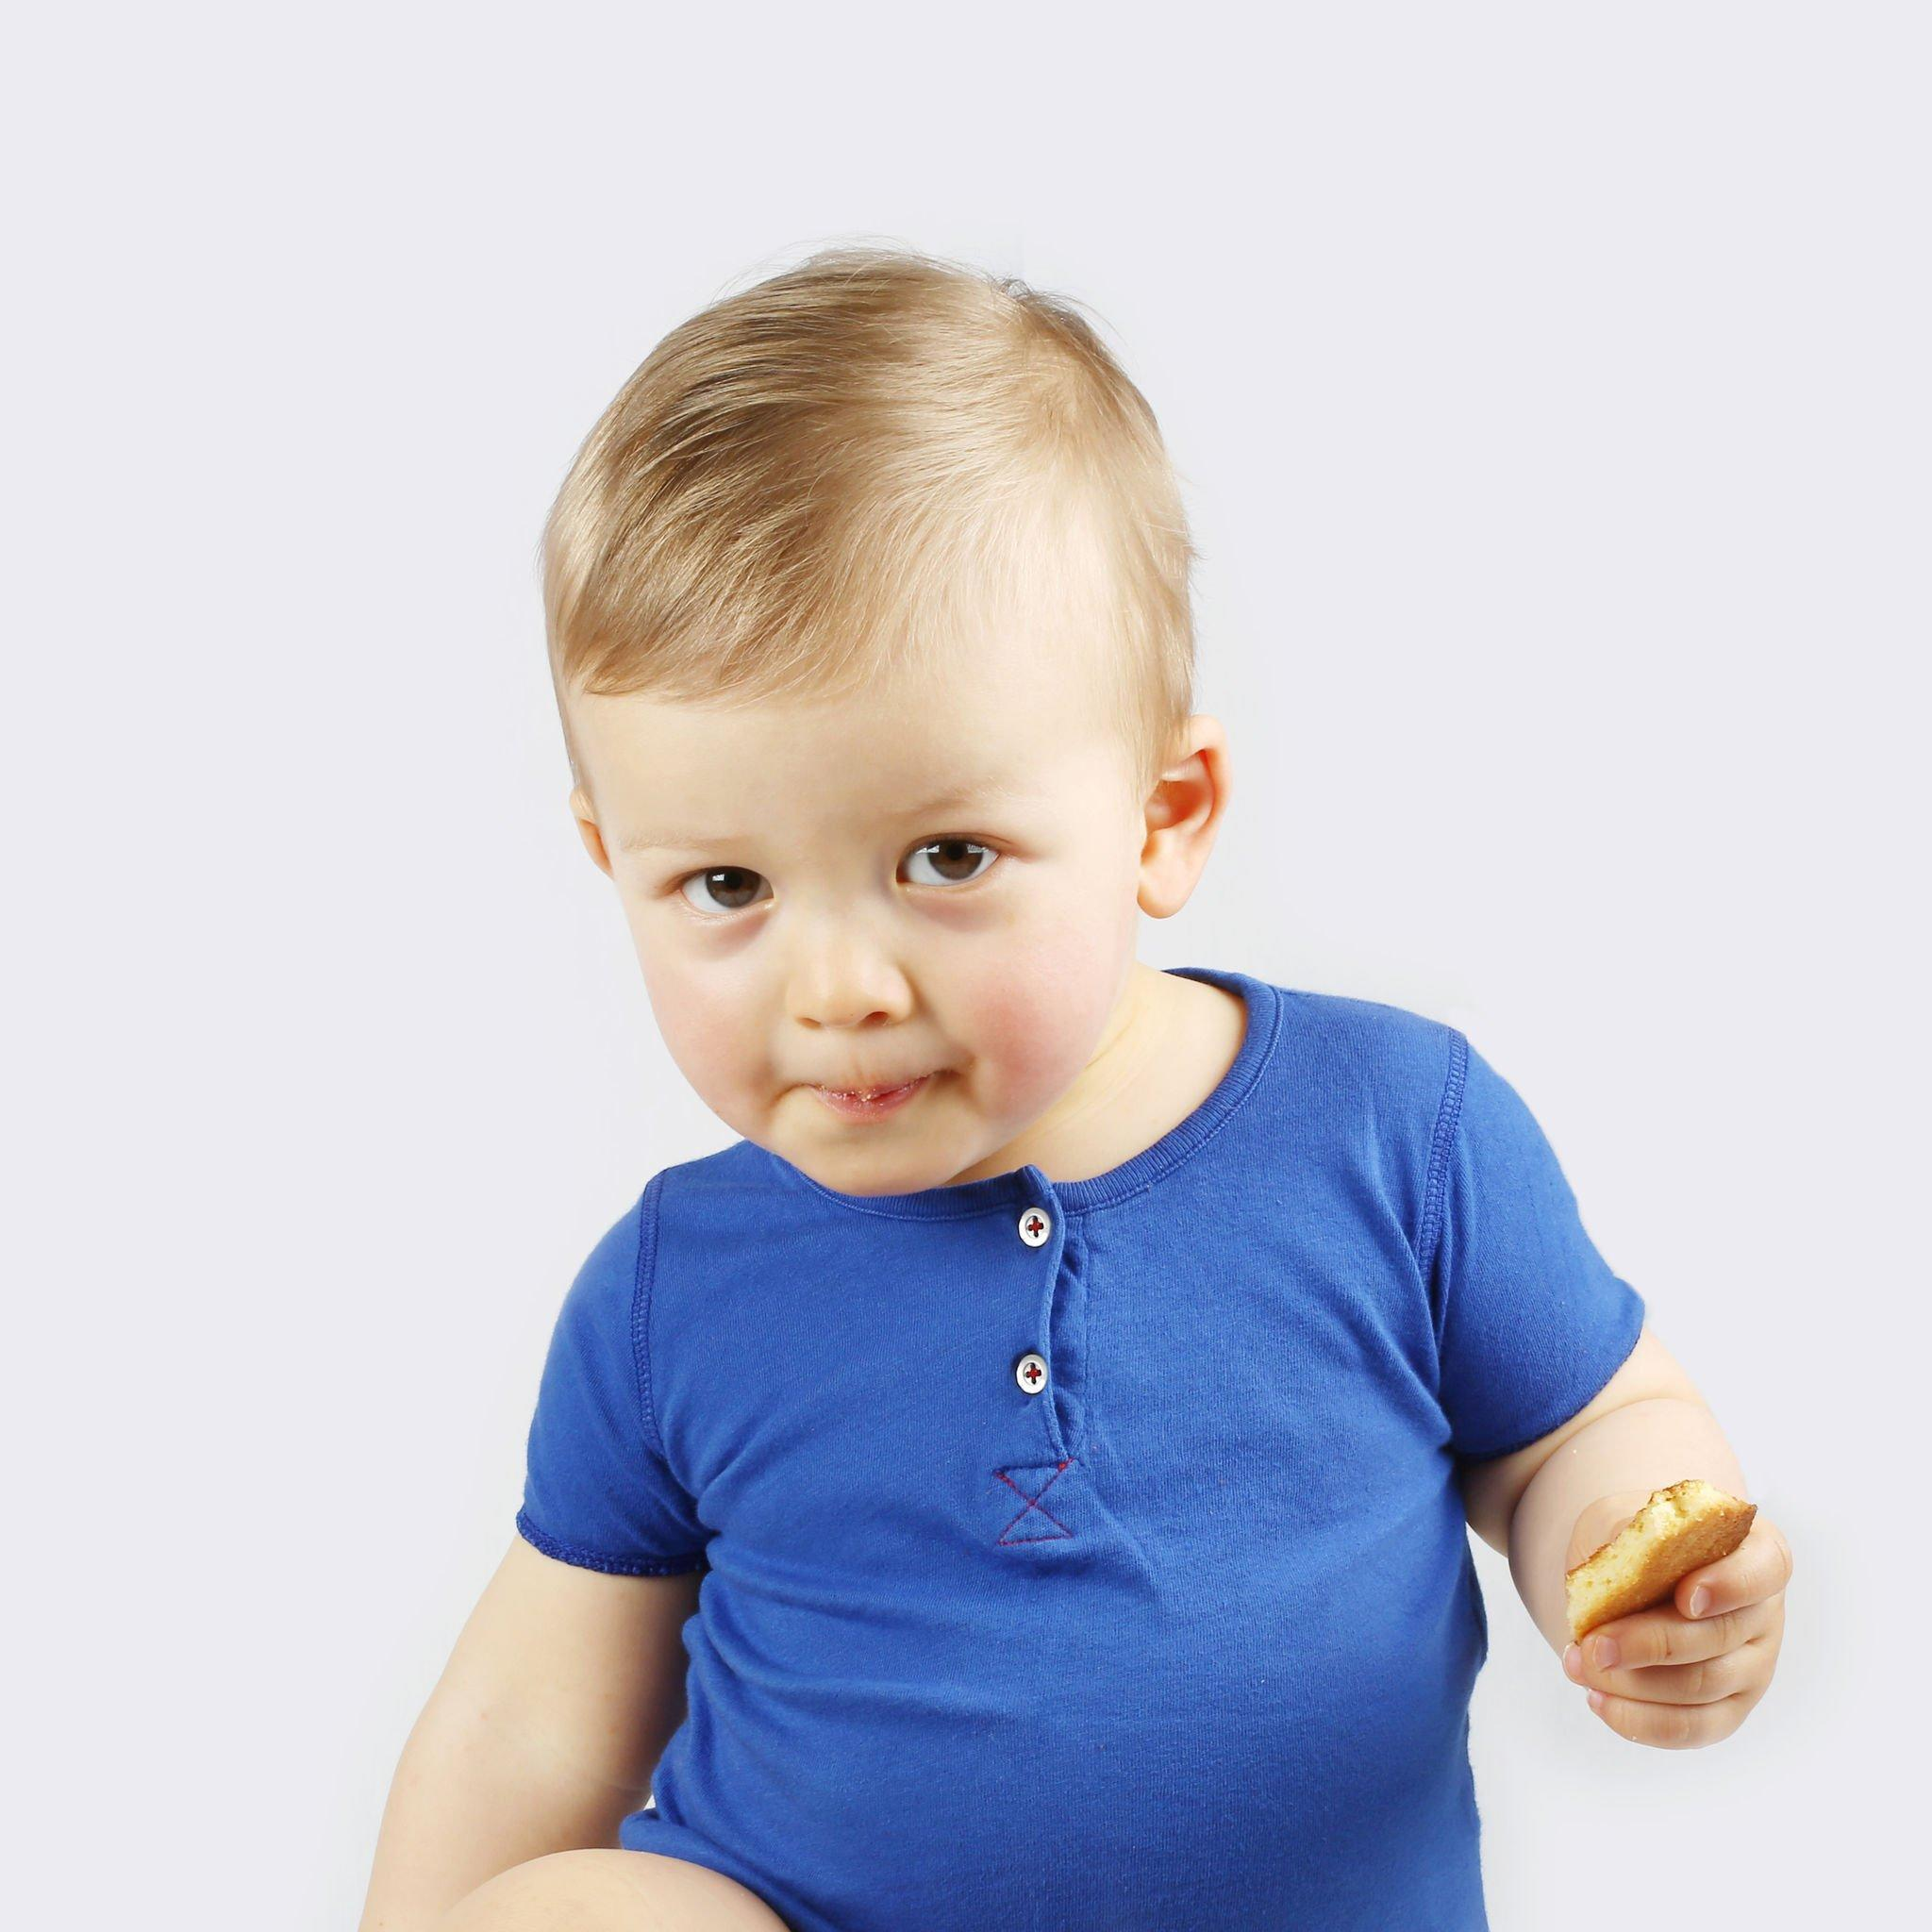Healthy: (582, 520, 1198, 1201)
